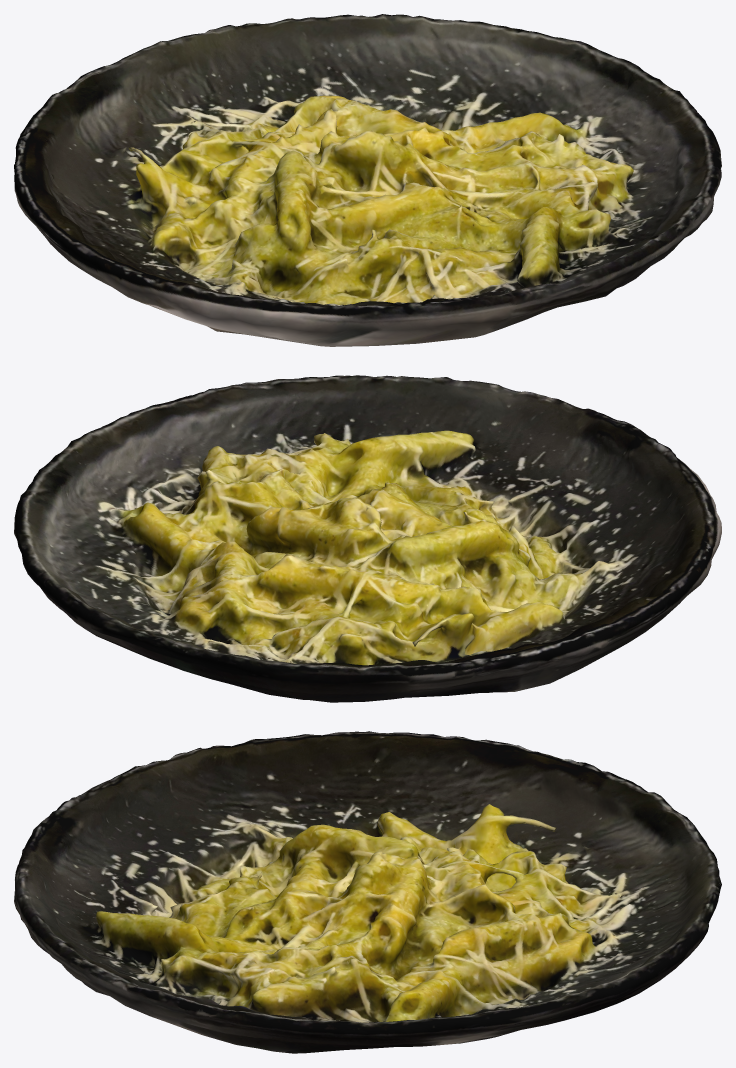
Rendered from Pesto Pasta.glb.
The picture shows the model from 3 angles, top to bottom: view 1: azimuth 30°, elevation 25°; view 2: azimuth 150°, elevation 25°; view 3: azimuth 270°, elevation 25°; orthographic projection.
Visible parts, largest first — view 1: ObjectCapture; view 2: ObjectCapture; view 3: ObjectCapture.
Part boxes in pixels (bbox=[...]): ObjectCapture: bbox=[14, 14, 721, 346]; ObjectCapture: bbox=[14, 375, 721, 702]; ObjectCapture: bbox=[14, 731, 721, 1053].
Bounding box in the file's own units: 0.262 × 0.0524 × 0.2621.
Materials: 1 (1 with a texture image).
